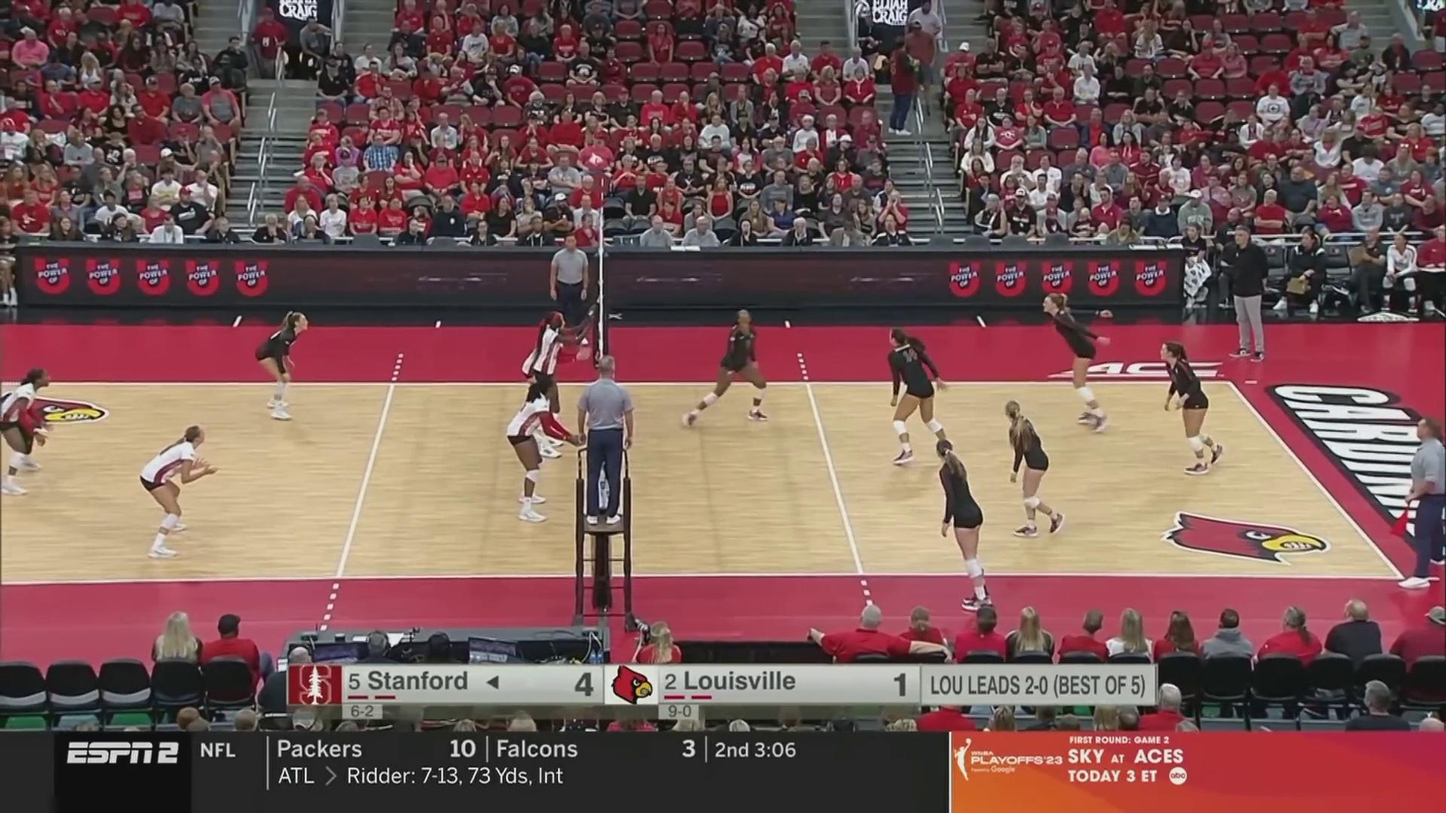player: (138, 426, 217, 555), (932, 440, 991, 611), (1042, 291, 1114, 431), (688, 308, 771, 426), (889, 327, 957, 467), (536, 312, 598, 460), (1157, 343, 1225, 472), (1005, 401, 1066, 535), (505, 383, 562, 520), (521, 333, 590, 431), (0, 364, 50, 495), (256, 312, 308, 424)
refree: (577, 357, 635, 519), (550, 234, 590, 347)
